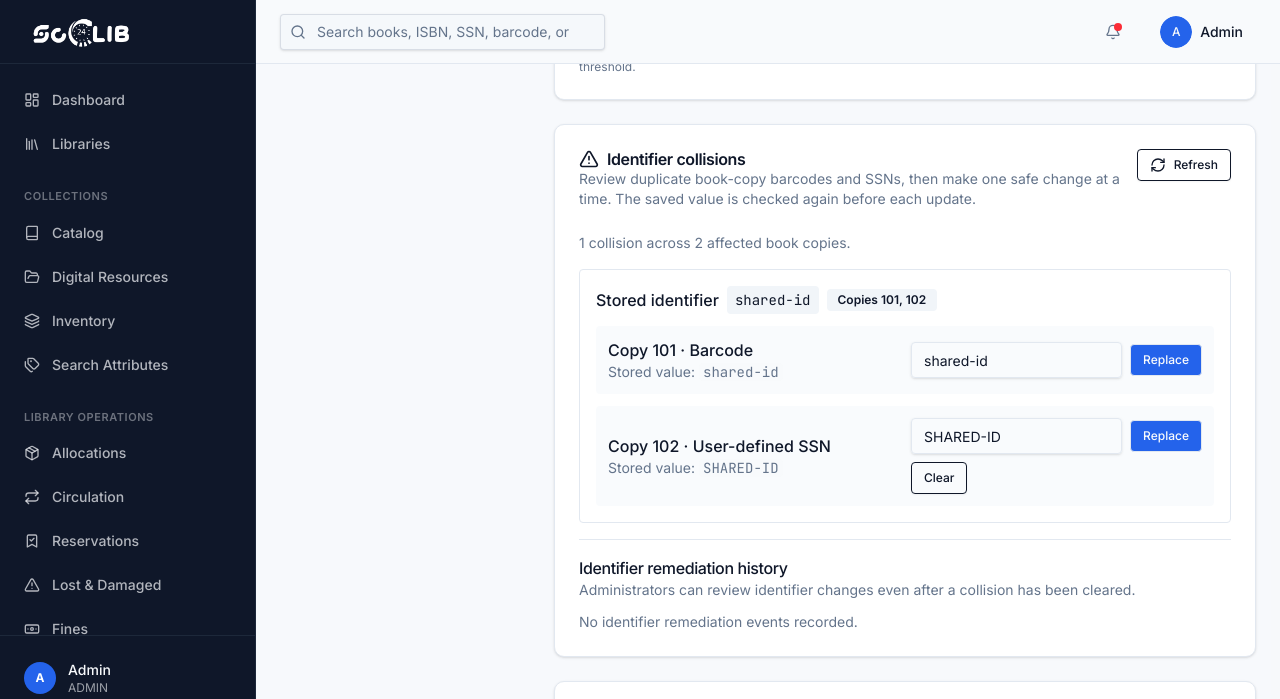
Scenario: SettingsPage › explains identifier conflicts and stale audits
(page scrolled)
Click the button with test id "button-replace-identifier-101-barcode" at (1166, 360), box top-left (1130, 344), bottom-right (1202, 376)
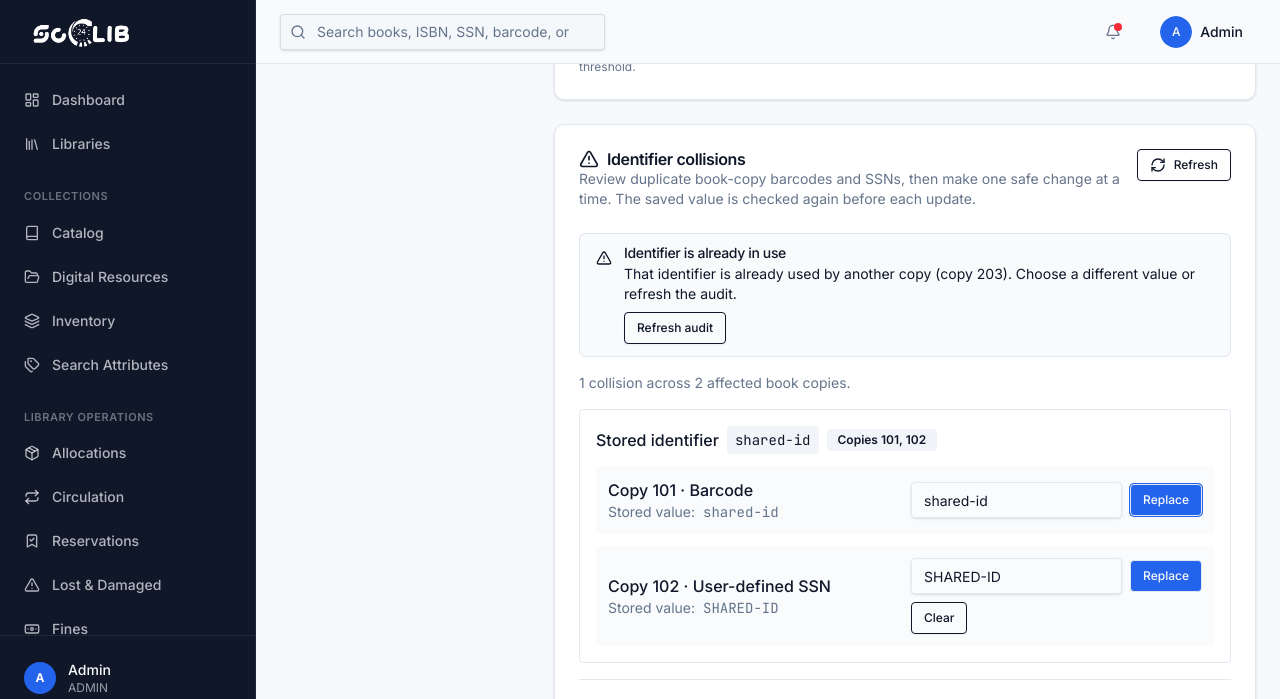
expect the message with test id "alert-identifier-conflict" shows "already used by another copy": met, box top-left (624, 265), bottom-right (1195, 302)
expect the message with test id "alert-identifier-conflict" shows "203": met, box top-left (624, 265), bottom-right (1195, 302)
Click the button with test id "button-replace-identifier-101-barcode" at (1166, 500), box top-left (1130, 484), bottom-right (1202, 516)
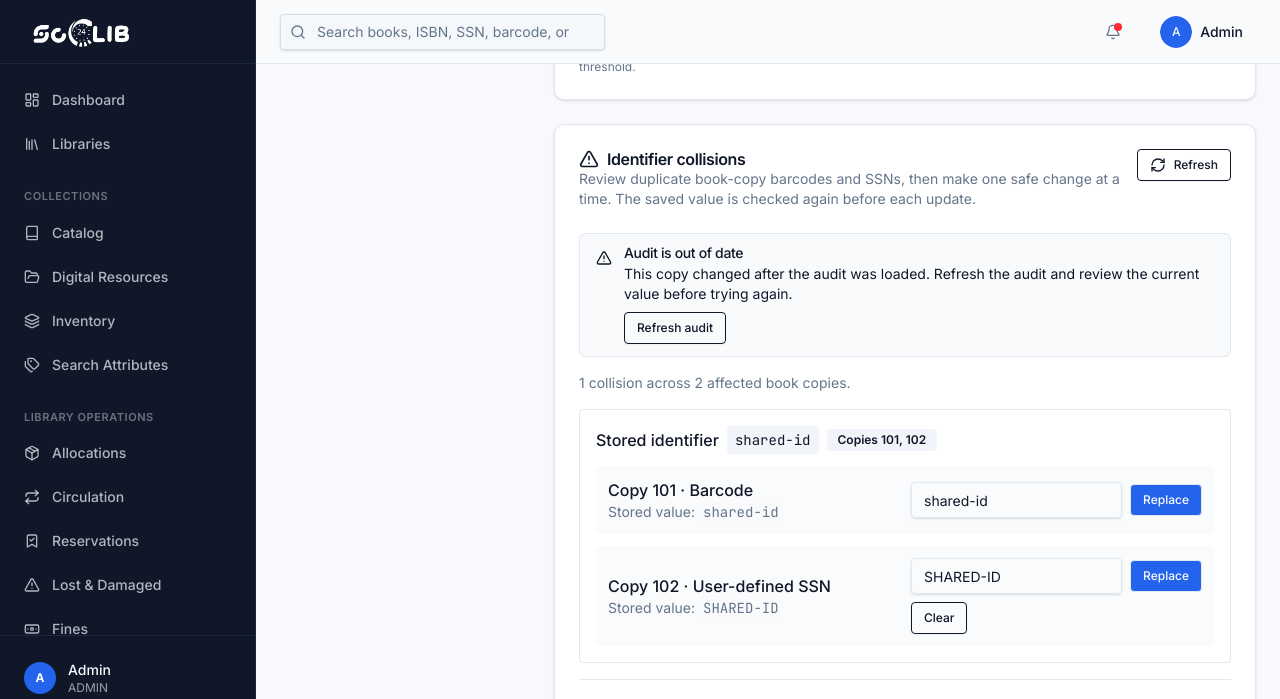
expect the message with test id "alert-identifier-stale" shows "Audit is out of date": met, box top-left (624, 244), bottom-right (743, 261)
